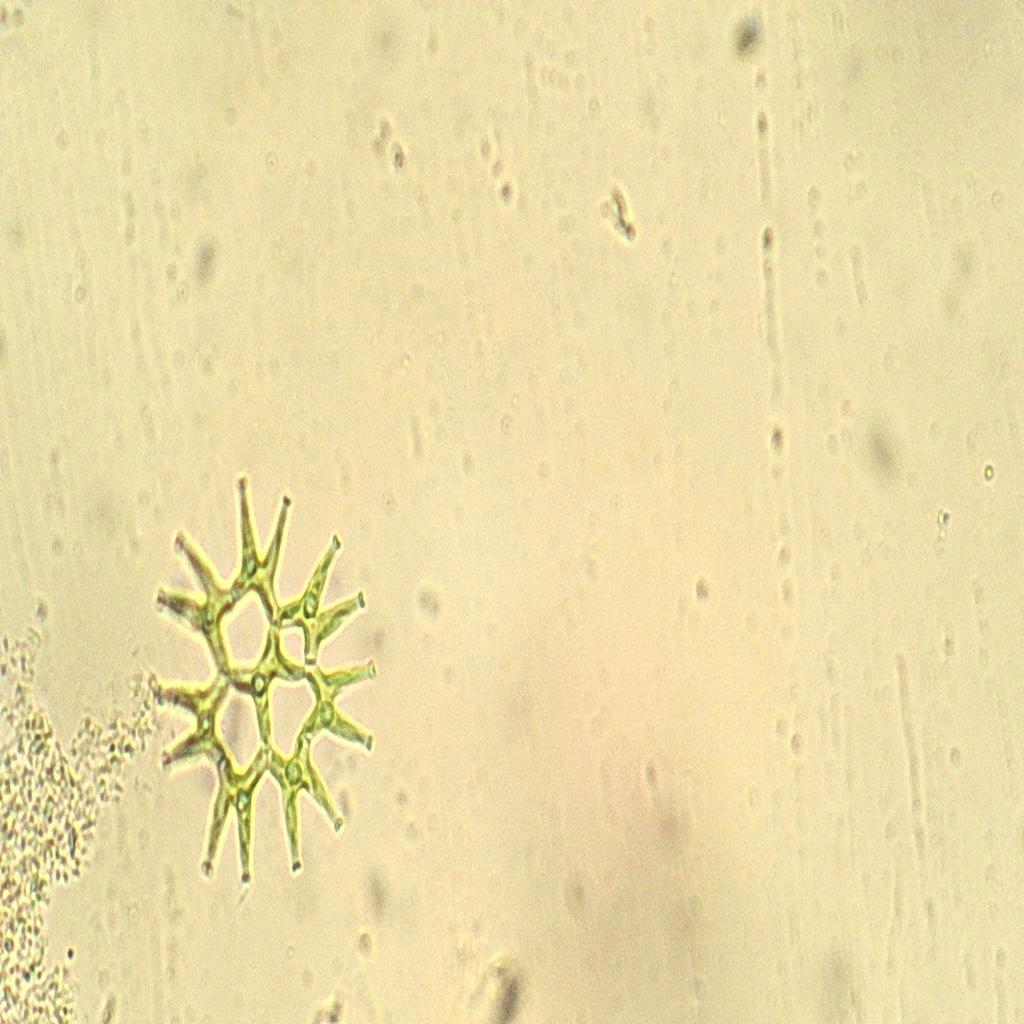Pediastrum_75T: (130, 456, 401, 908)
